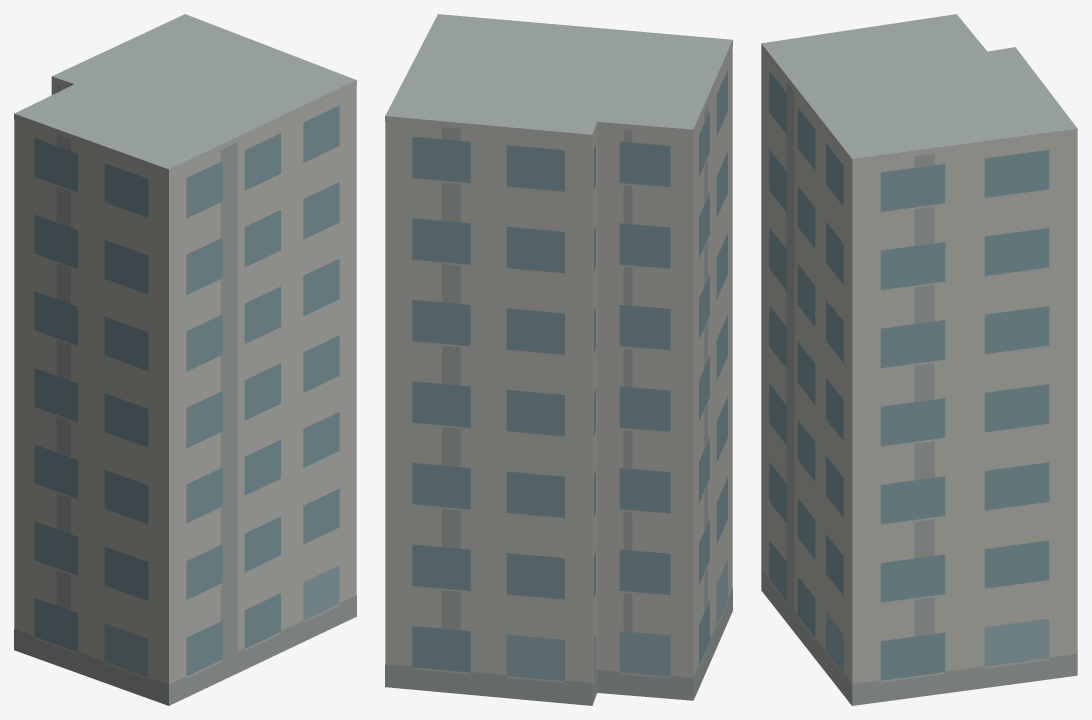
The model's file is survey-upis-32804833.glb.
3 renders of one model, left to right at view 1: azimuth 30°, elevation 25°; view 2: azimuth 150°, elevation 25°; view 3: azimuth 270°, elevation 25°, orthographic. The views are drawn at different scales.
Visible parts, largest first — view 1: survey-upis-32804833.tmp; view 2: survey-upis-32804833.tmp; view 3: survey-upis-32804833.tmp.
Part boxes in pixels (box(x1,y1,x2,y2)): survey-upis-32804833.tmp: box(14, 14, 356, 705); survey-upis-32804833.tmp: box(385, 14, 732, 705); survey-upis-32804833.tmp: box(761, 14, 1077, 705).
Bounding box in the file's own units: 13.02 × 22.9 × 12.01.
